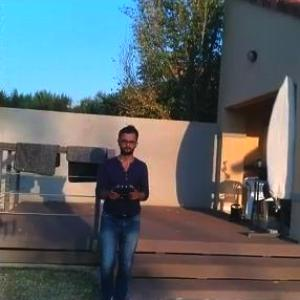follow: (89, 118, 154, 299)
